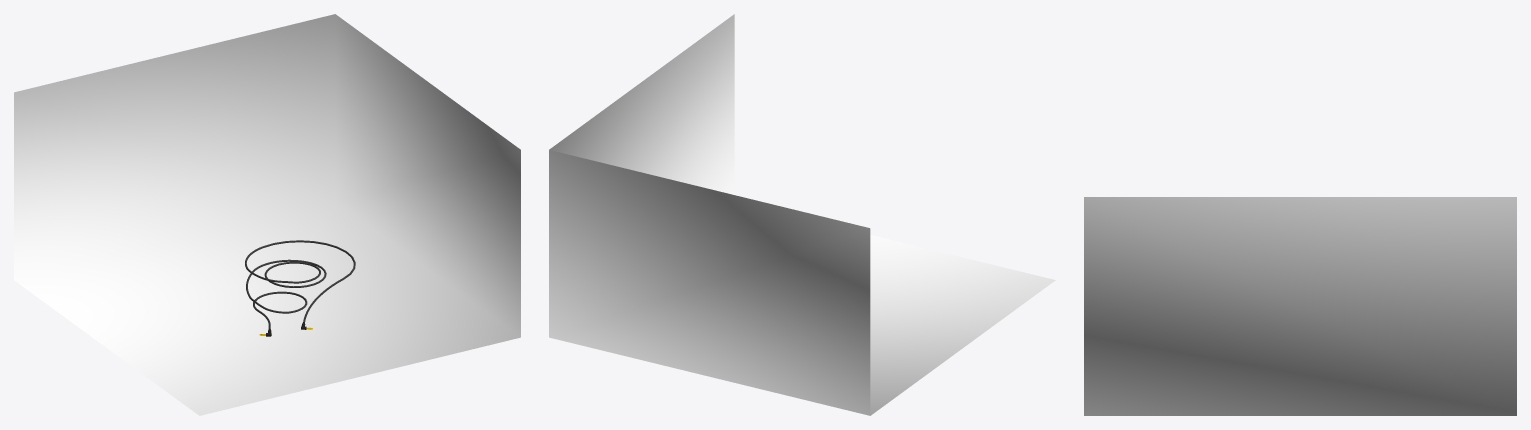
3 views of the same model, side by side, from view 1: azimuth 30°, elevation 25°; view 2: azimuth 150°, elevation 25°; view 3: azimuth 270°, elevation 25° (orthographic). The views are drawn at different scales.
Visible parts, largest first — view 1: SketchUp, Component_1; view 2: SketchUp; view 3: SketchUp.
Part boxes in pixels (bbox=[...]): SketchUp: bbox=[14, 14, 520, 415]; Component_1: bbox=[245, 240, 355, 328]; SketchUp: bbox=[549, 14, 1055, 415]; SketchUp: bbox=[1084, 197, 1516, 415].
Bounding box in the file's own units: 63.49 × 63.49 × 35.56.
Materials: 6 (2 with a texture image).
